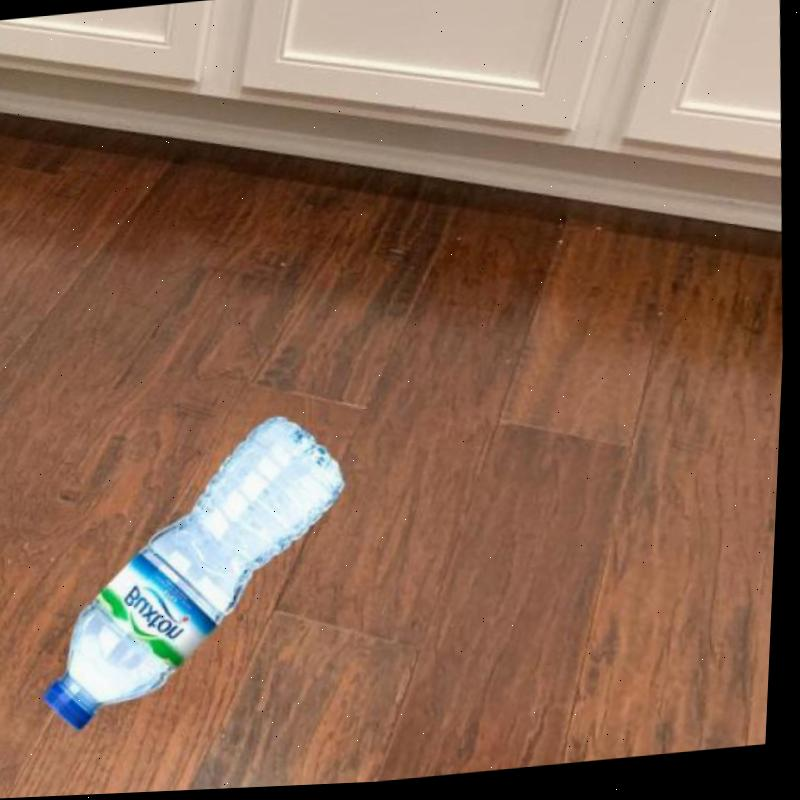botella: (31, 413, 367, 739)
